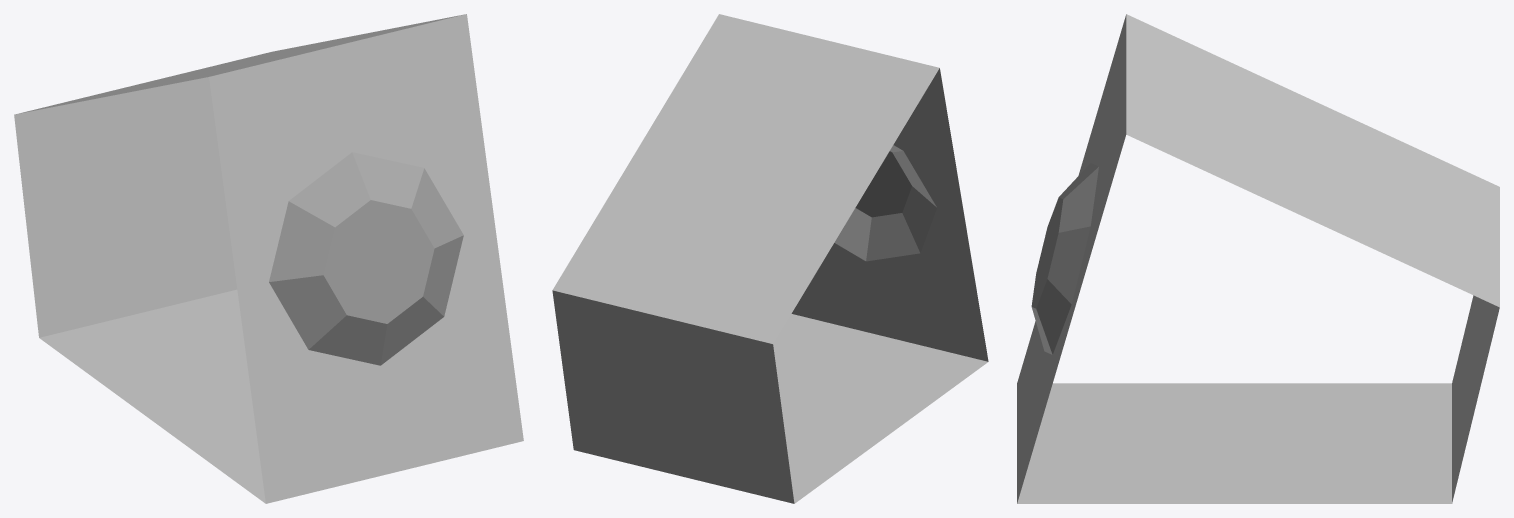
Rendered from Itr_Obj_Speaker2_Middle_01.FBX.
3 renders of one model, left to right at view 1: azimuth 30°, elevation 25°; view 2: azimuth 150°, elevation 25°; view 3: azimuth 270°, elevation 25°, orthographic. The views are drawn at different scales.
Visible parts, largest first — view 1: Itr_Obj_Speaker2_Middle_01; view 2: Itr_Obj_Speaker2_Middle_01; view 3: Itr_Obj_Speaker2_Middle_01.
Part boxes in pixels (bbox=[...]): Itr_Obj_Speaker2_Middle_01: bbox=[14, 14, 523, 503]; Itr_Obj_Speaker2_Middle_01: bbox=[552, 14, 988, 503]; Itr_Obj_Speaker2_Middle_01: bbox=[1017, 14, 1499, 503].
Bounding box in the file's own units: 6.69 × 9.54 × 11.31.
